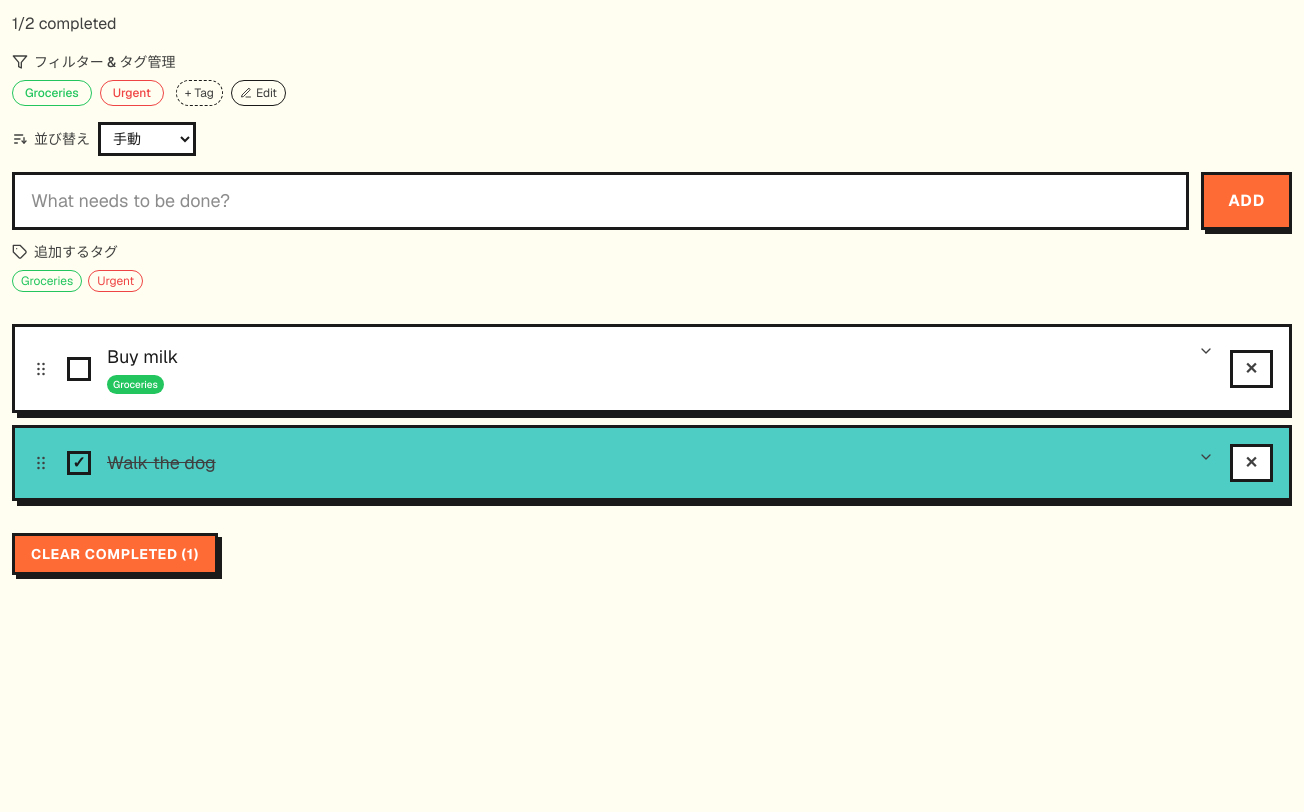
TodoSection › filters todos by selected tag
The width and height of the screenshot is (1304, 812).
Expected: the text "Buy milk" is shown, [107,345,178,368]
# Click the first "Groceries" button (in TagFilter, not TagSelector)
Click the 1st button "Groceries" at [52, 93], box [12,80,92,106]
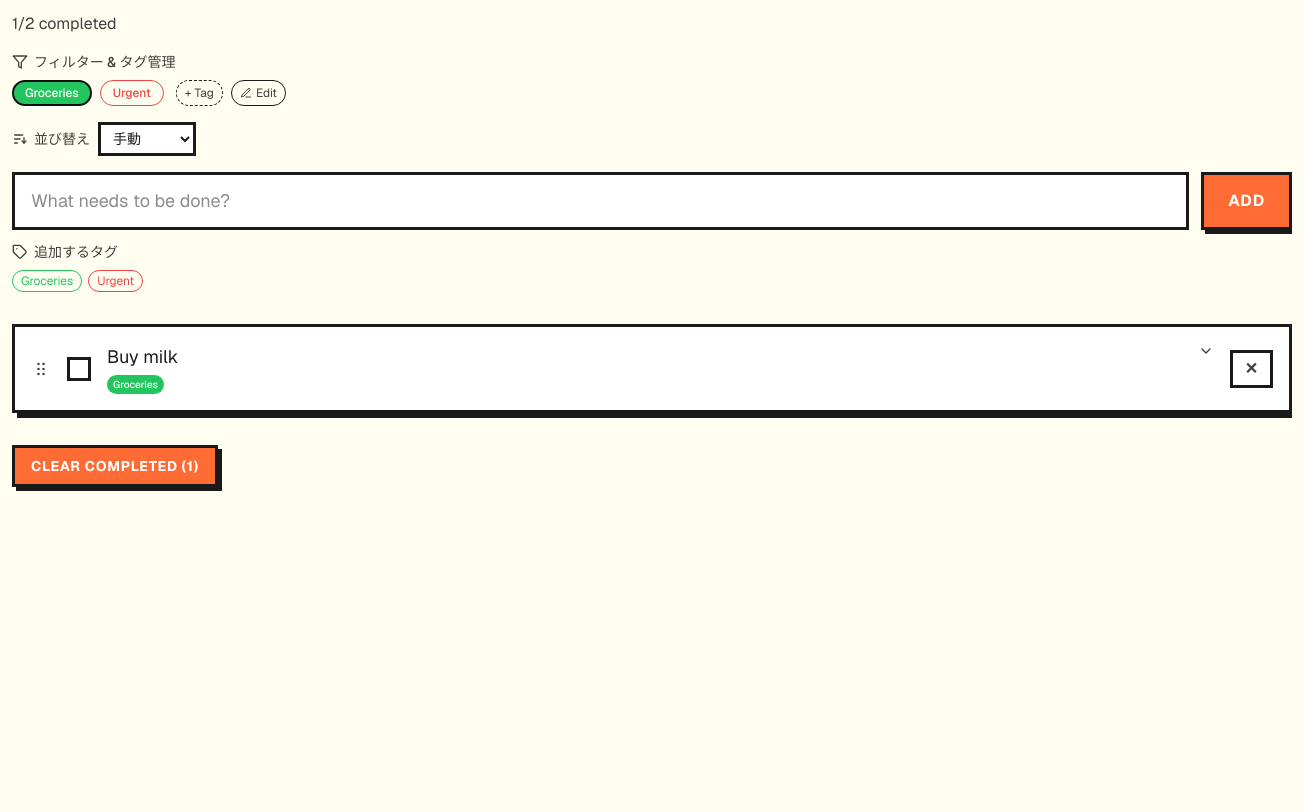
Expected: the text "Buy milk" is shown, [107,345,178,368]
Result: the button "Walk the dog" is gone
Click the 1st button "Groceries" at [52, 93], box [12,80,92,106]
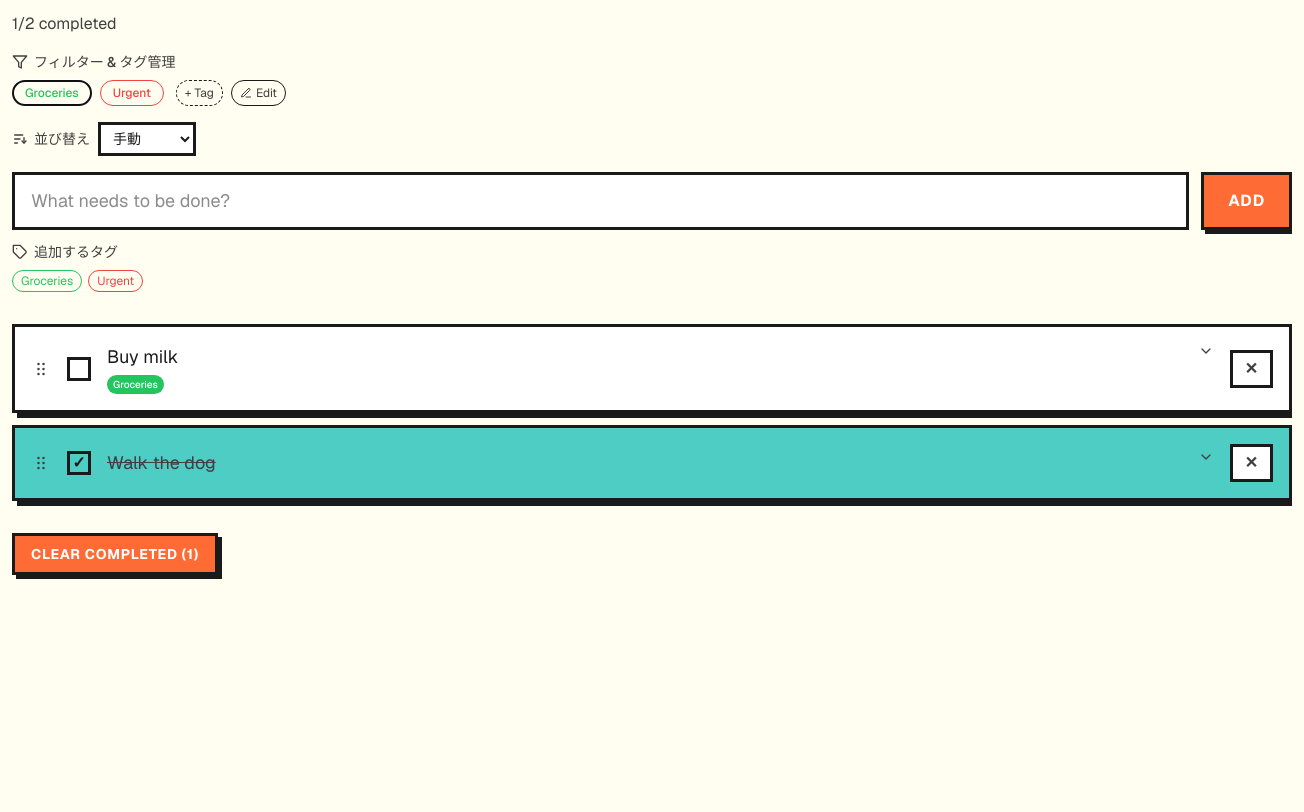
Expected: the text "Buy milk" is shown, [107,345,178,368]
Result: the text "Walk the dog" is shown at [107,451,216,474]
